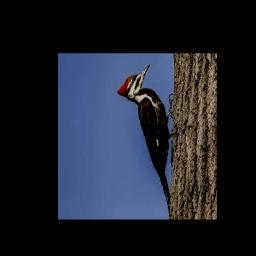Woodpecker: (117, 64, 174, 214)
